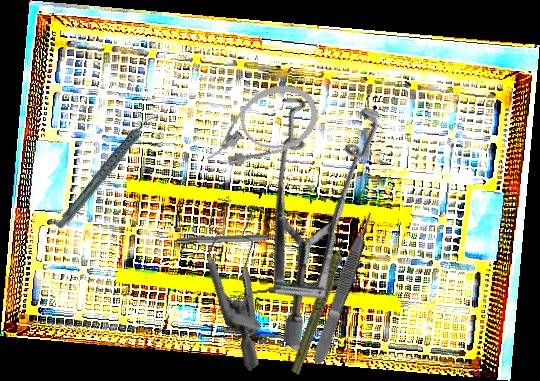Cannula: (191, 74, 327, 179)
Fixation Ring: (176, 228, 288, 249)
Handpiece: (37, 111, 179, 232), (264, 232, 381, 376)
Speculum: (163, 59, 454, 353), (153, 180, 337, 372)
Surgical Spoon: (232, 276, 358, 299)
Tissue Forceps: (309, 210, 379, 366)
